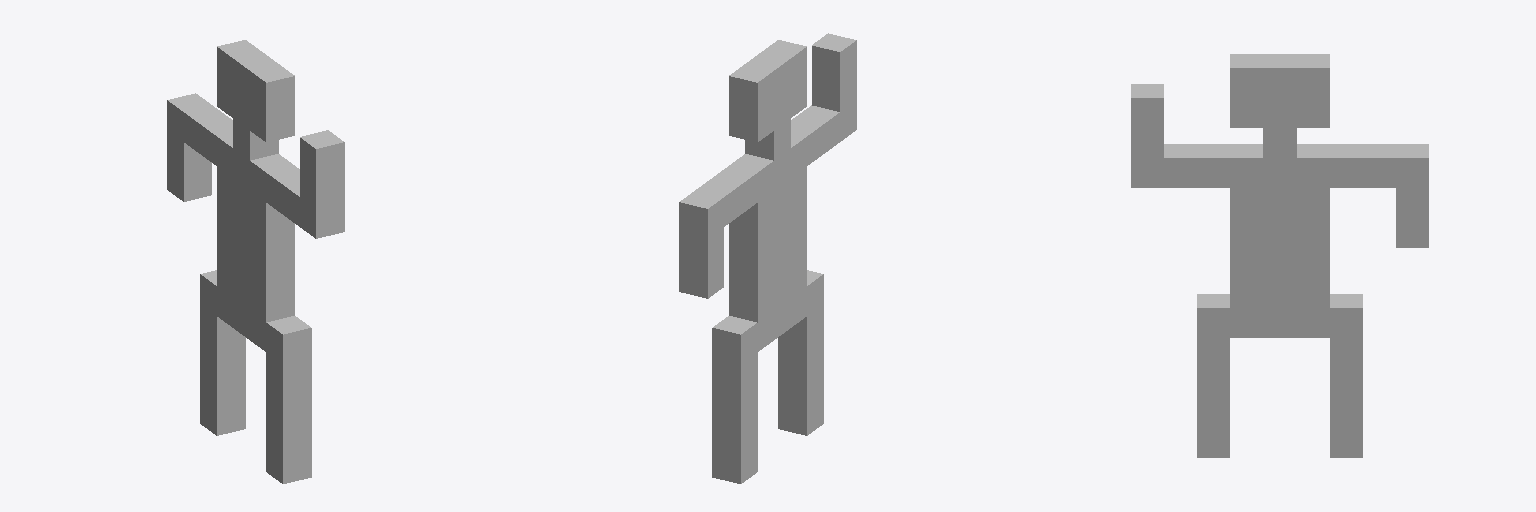
Rendered from blocky_robot_partitioned.obj.
The picture shows the model from 3 angles: view 1: azimuth 30°, elevation 25°; view 2: azimuth 150°, elevation 25°; view 3: azimuth 270°, elevation 25°; orthographic projection.
Visible parts, largest first — view 1: Cube.021_Cube.022, Cube.038_Cube.039, Cube.043_Cube.044, Cube.004_Cube.005, Cube.005_Cube.006, Cube.008_Cube.009, Cube.002, Cube.003, Cube.001, Cube.006_Cube.007, Cube.033_Cube.034, Cube.044_Cube.045 (+19 smaller); view 2: Cube.009_Cube.010, Cube.031_Cube.032, Cube.038_Cube.039, Cube.042_Cube.043, Cube.003, Cube.006_Cube.007, Cube.007_Cube.008, Cube.001, Cube.004_Cube.005, Cube.002, Cube.005_Cube.006, Cube.045_Cube.046 (+18 smaller); view 3: Cube.041_Cube.042, Cube.026_Cube.027, Cube.028_Cube.029, Cube.029_Cube.030, Cube.030_Cube.031, Cube.031_Cube.032, Cube.034_Cube.035, Cube.035_Cube.036, Cube.038_Cube.039, Cube.042_Cube.043, Cube.043_Cube.044, Cube.009_Cube.010 (+28 smaller).
Boxes of the visible parts, box(x1,y1,x2,y2) form: Cube.021_Cube.022: box(266, 316, 311, 364); Cube.038_Cube.039: box(300, 130, 344, 178); Cube.043_Cube.044: box(250, 64, 294, 112); Cube.004_Cube.005: box(200, 364, 245, 405); Cube.005_Cube.006: box(200, 334, 245, 375); Cube.008_Cube.009: box(266, 353, 311, 393); Cube.002: box(266, 442, 311, 483); Cube.003: box(266, 412, 311, 453); Cube.001: box(200, 394, 245, 435); Cube.006_Cube.007: box(266, 383, 311, 423); Cube.033_Cube.034: box(167, 160, 211, 201); Cube.044_Cube.045: box(250, 101, 294, 142); Cube.009_Cube.010: box(712, 316, 757, 364); Cube.031_Cube.032: box(679, 190, 723, 238); Cube.038_Cube.039: box(812, 33, 856, 81); Cube.042_Cube.043: box(729, 64, 773, 112); Cube.003: box(778, 364, 823, 405); Cube.006_Cube.007: box(778, 334, 823, 375); Cube.007_Cube.008: box(712, 353, 757, 393); Cube.001: box(712, 442, 757, 483); Cube.004_Cube.005: box(712, 412, 757, 453); Cube.002: box(778, 394, 823, 435); Cube.005_Cube.006: box(712, 383, 757, 423); Cube.045_Cube.046: box(729, 101, 773, 142); Cube.041_Cube.042: box(1263, 54, 1296, 97); Cube.026_Cube.027: box(1230, 144, 1262, 187); Cube.028_Cube.029: box(1297, 144, 1329, 187); Cube.029_Cube.030: box(1330, 144, 1362, 187); Cube.030_Cube.031: box(1363, 144, 1395, 187); Cube.031_Cube.032: box(1396, 144, 1428, 187); Cube.034_Cube.035: box(1197, 144, 1229, 187); Cube.035_Cube.036: box(1164, 144, 1196, 187); Cube.038_Cube.039: box(1131, 84, 1163, 127); Cube.042_Cube.043: box(1297, 54, 1329, 97); Cube.043_Cube.044: box(1230, 54, 1262, 97); Cube.009_Cube.010: box(1330, 294, 1362, 337).
Bounding box in the file's own units: 2 × 26 × 18.